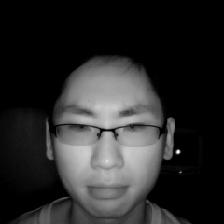normal: (33, 52, 182, 218)
